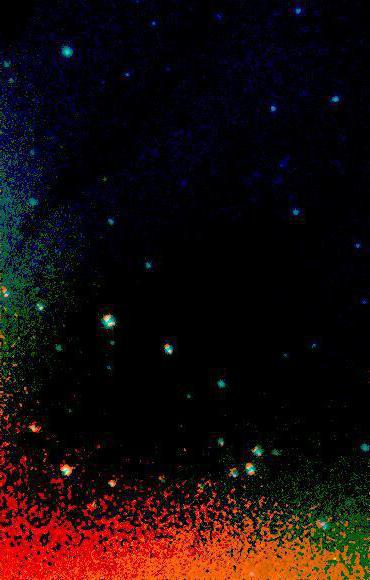star: (91, 164, 121, 194)
